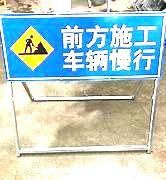sign: (1, 16, 161, 77)
